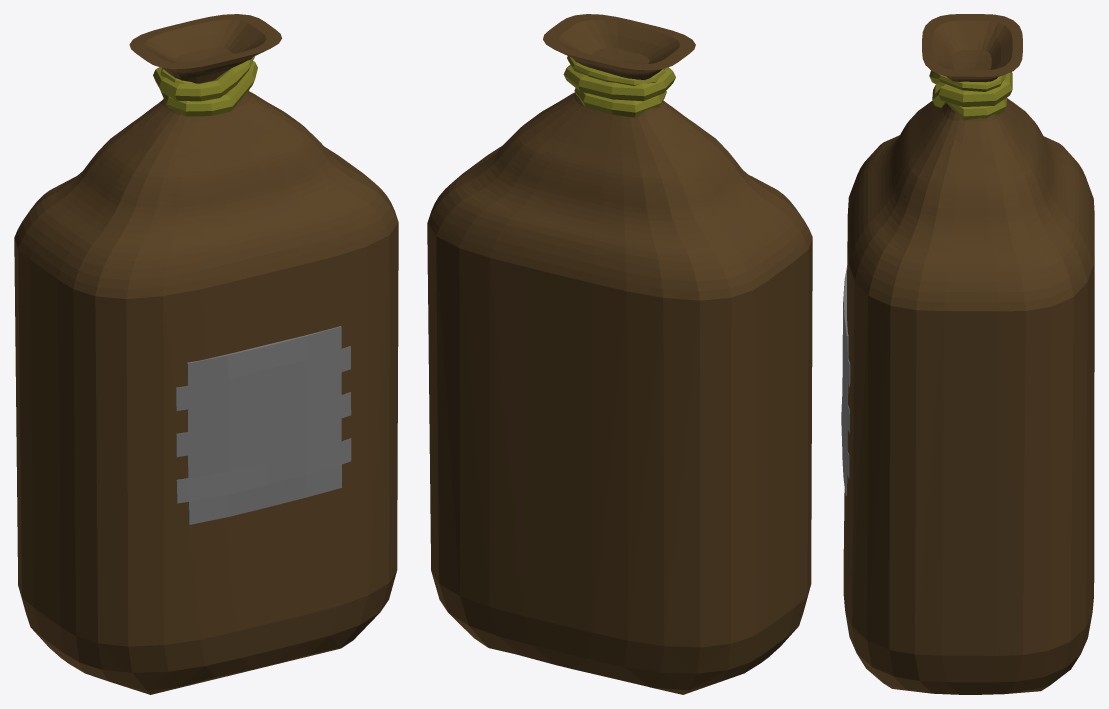
The model's file is bag.fbx.
The picture shows the model from 3 angles, left to right: view 1: azimuth 30°, elevation 25°; view 2: azimuth 150°, elevation 25°; view 3: azimuth 270°, elevation 25°; orthographic projection.
Visible parts, largest first — view 1: Cube.005, Cube.006, Cylinder.014; view 2: Cube.005, Cylinder.014; view 3: Cube.005, Cylinder.014, Cube.006.
Boxes of the visible parts, x1=… form: Cube.005: x1=14, y1=14, x2=398, y2=694; Cube.006: x1=175, y1=326, x2=351, y2=524; Cylinder.014: x1=153, y1=56, x2=257, y2=116; Cube.005: x1=427, y1=14, x2=812, y2=694; Cylinder.014: x1=563, y1=56, x2=675, y2=117; Cube.005: x1=843, y1=14, x2=1094, y2=694; Cylinder.014: x1=929, y1=70, x2=1012, y2=120; Cube.006: x1=841, y1=265, x2=850, y2=495.
Bounding box in the file's own units: 82.61 × 147 × 56.13.
